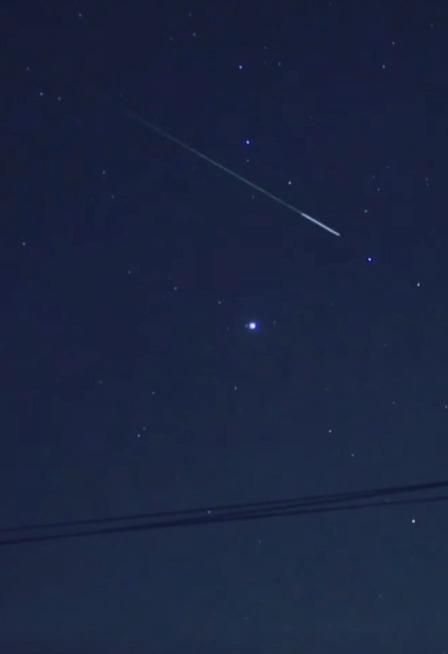meteorite: (110, 90, 347, 253)
